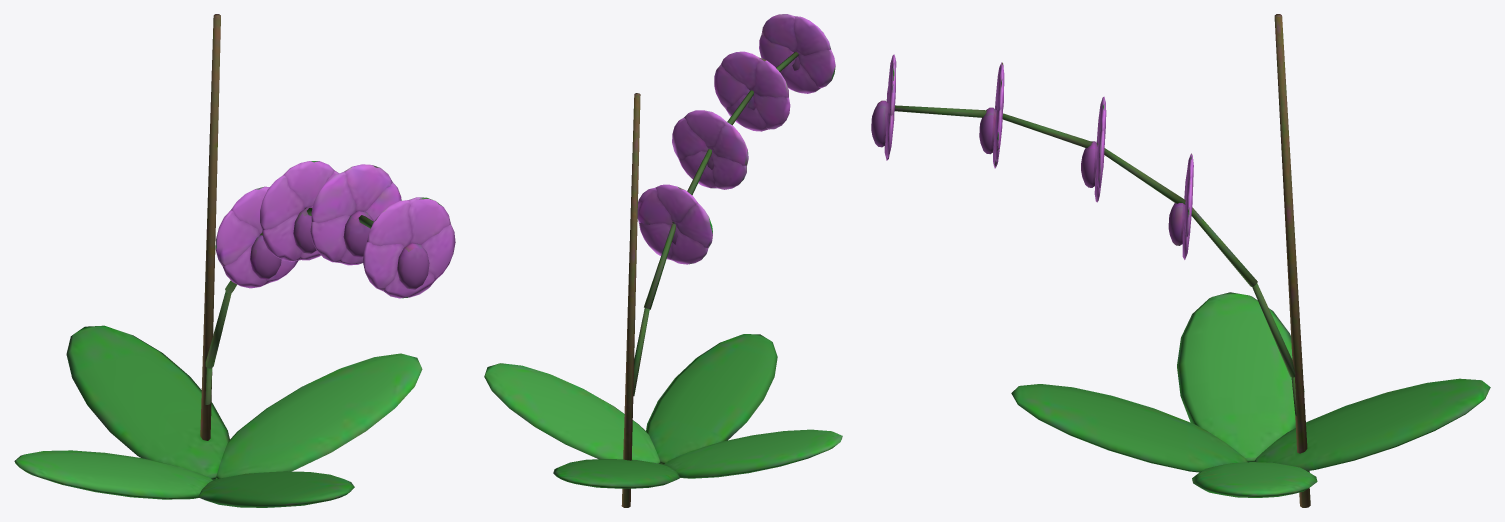
The model's file is crop_orchid.glb.
The picture shows the model from 3 angles, left to right: view 1: azimuth 30°, elevation 25°; view 2: azimuth 150°, elevation 25°; view 3: azimuth 270°, elevation 25°; orthographic projection. The views are drawn at different scales.
Parts seen in each view (by area): view 1: crop_orchid, fruit; view 2: crop_orchid, fruit; view 3: crop_orchid, fruit.
Part boxes in pixels (x1,y1,x2,y2): crop_orchid: (14, 14, 422, 507); fruit: (215, 161, 455, 298); crop_orchid: (484, 52, 842, 507); fruit: (637, 14, 835, 264); crop_orchid: (894, 14, 1490, 507); fruit: (871, 54, 1193, 259).
Bounding box in the file's own units: 0.2652 × 0.2999 × 0.343.
1 material, 1 textured.
